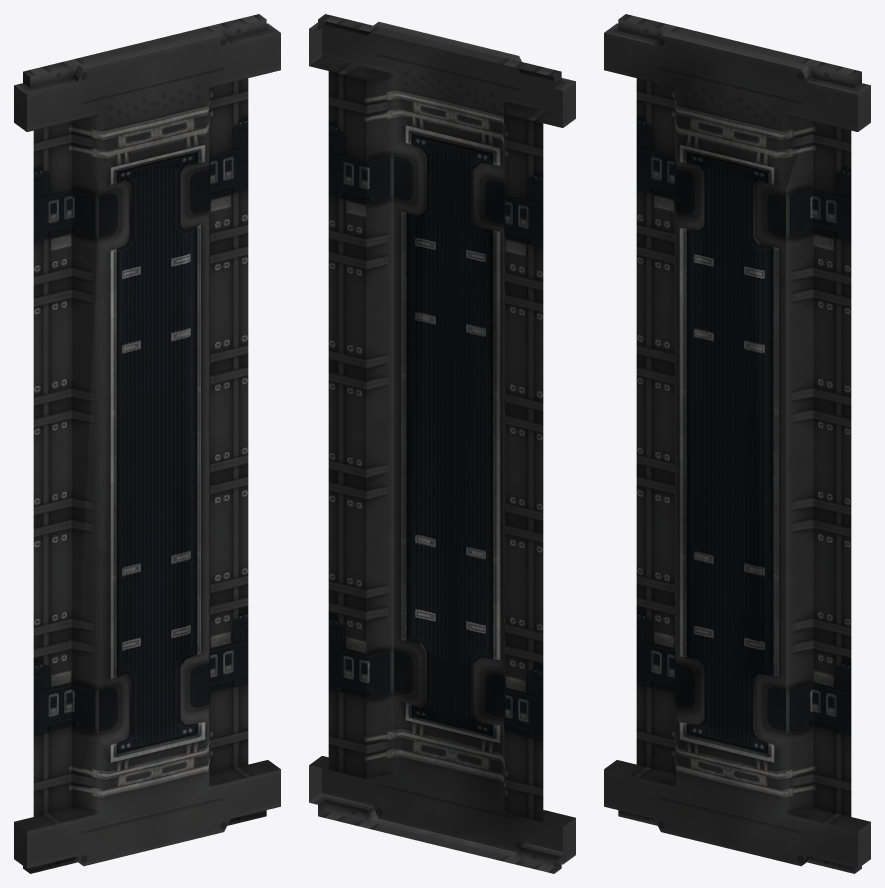
The model's file is Panel_C_1x3_L3.FBX.
3 renders of one model, left to right at view 1: azimuth 30°, elevation 25°; view 2: azimuth 150°, elevation 25°; view 3: azimuth 330°, elevation 25°, orthographic.
Visible parts, largest first — view 1: Panel_C_1x3_L3; view 2: Panel_C_1x3_L3; view 3: Panel_C_1x3_L3.
Boxes of the visible parts, bbox=[...] form: Panel_C_1x3_L3: bbox=[14, 14, 280, 873]; Panel_C_1x3_L3: bbox=[309, 14, 575, 873]; Panel_C_1x3_L3: bbox=[604, 14, 870, 873].
Size of the model in its own units: 100 by 300 by 11.58.
